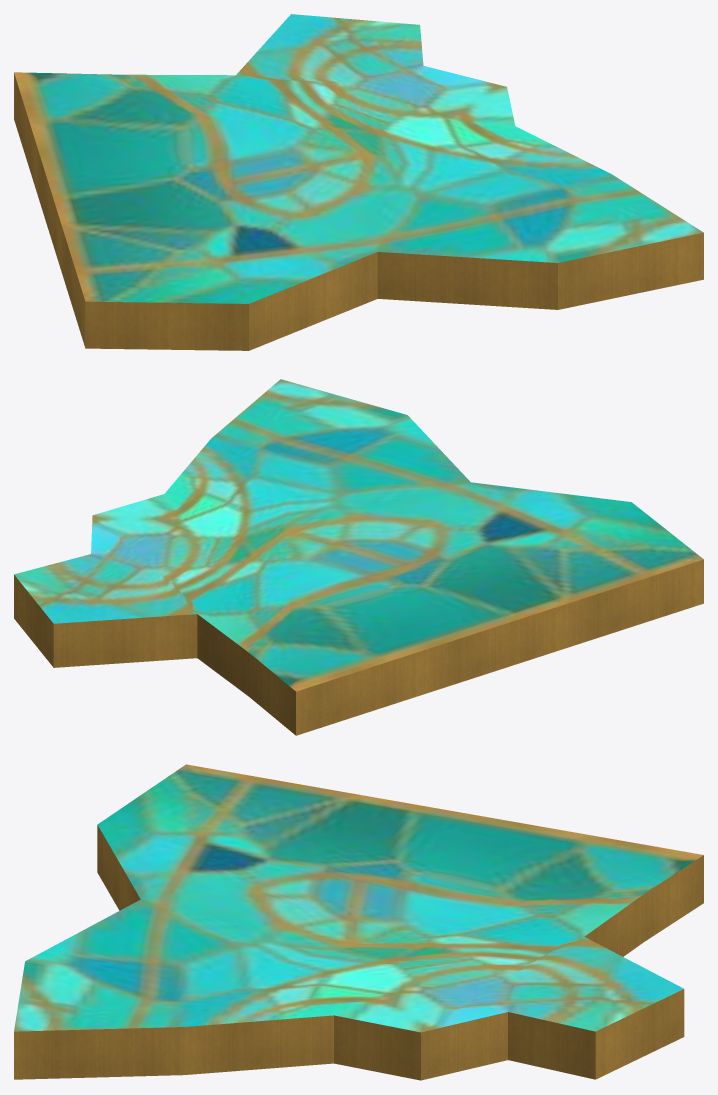
File: lb_chunk_4_1.glb
The picture shows the model from 3 angles, top to bottom: view 1: azimuth 30°, elevation 25°; view 2: azimuth 150°, elevation 25°; view 3: azimuth 270°, elevation 25°; orthographic projection. The views are drawn at different scales.
Parts seen in each view (by area): view 1: lb_chunk_4_1; view 2: lb_chunk_4_1; view 3: lb_chunk_4_1.
Boxes of the visible parts, x1,y1,x2,y2 form: lb_chunk_4_1: (14,14,703,350); lb_chunk_4_1: (14,379,703,735); lb_chunk_4_1: (14,764,703,1080).
Bounding box in the file's own units: 4.3 × 0.36 × 4.68.
Materials: 2 (2 with a texture image).
